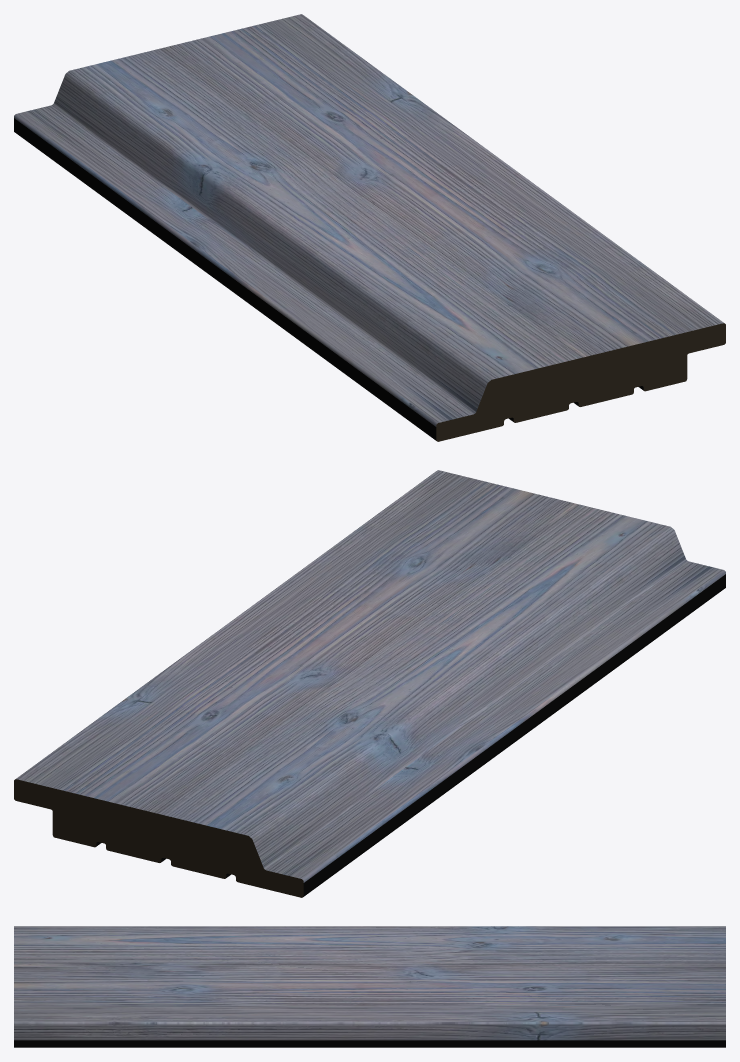
Rendered from spruce-facade-half-tongue-latte.glb.
3 renders of one model, top to bottom at view 1: azimuth 30°, elevation 25°; view 2: azimuth 150°, elevation 25°; view 3: azimuth 270°, elevation 25°, orthographic. The views are drawn at different scales.
Visible parts, largest first — view 1: Pusė_Špunto; view 2: Pusė_Špunto; view 3: Pusė_Špunto.
Boxes of the visible parts, left/top/right/bottom form: Pusė_Špunto: left=14, top=14, right=725, bottom=441; Pusė_Špunto: left=14, top=470, right=725, bottom=897; Pusė_Špunto: left=14, top=926, right=725, bottom=1047.
Bounding box in the file's own units: 0.0723 × 0.0117 × 0.1826.
Materials: 3 (1 with a texture image).
